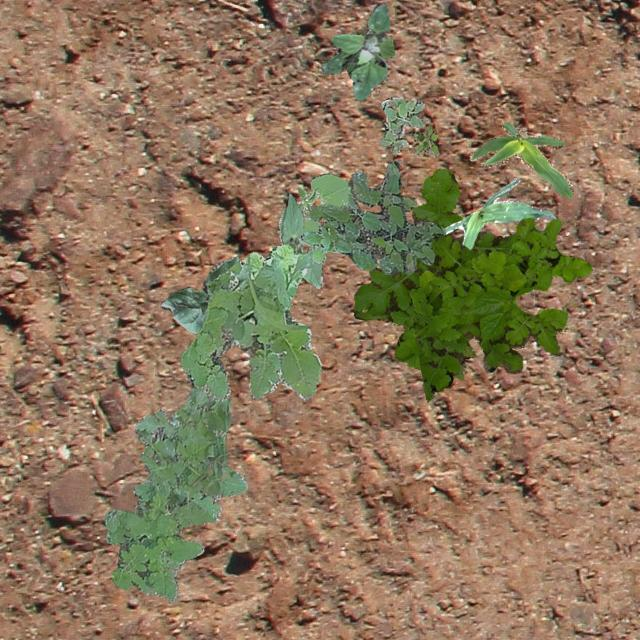crop: (444, 176, 554, 248), (468, 120, 572, 196), (160, 255, 238, 332), (278, 172, 352, 240), (280, 192, 322, 288)
weed: (352, 168, 516, 378), (410, 217, 592, 400), (104, 387, 246, 600), (180, 242, 320, 400), (298, 160, 444, 274), (321, 0, 394, 100), (378, 96, 424, 152), (411, 124, 438, 156)
